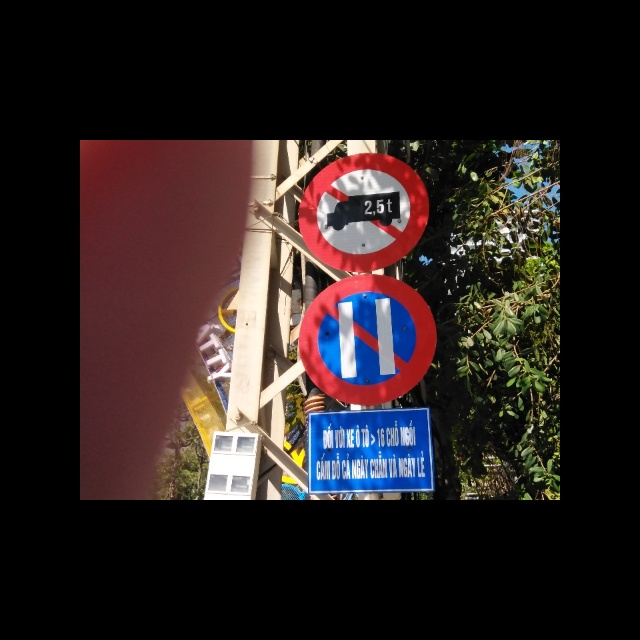Cấm xe tải: (302, 154, 434, 271)
Cấm đỗ xe ngày chẵn: (292, 278, 438, 410)
